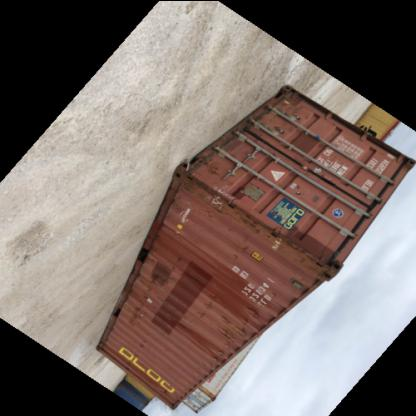Damage: (178, 166, 254, 221), (265, 224, 330, 275), (166, 316, 219, 367), (220, 304, 248, 352), (278, 92, 309, 120), (227, 237, 257, 263), (133, 288, 149, 332), (170, 254, 190, 278)
